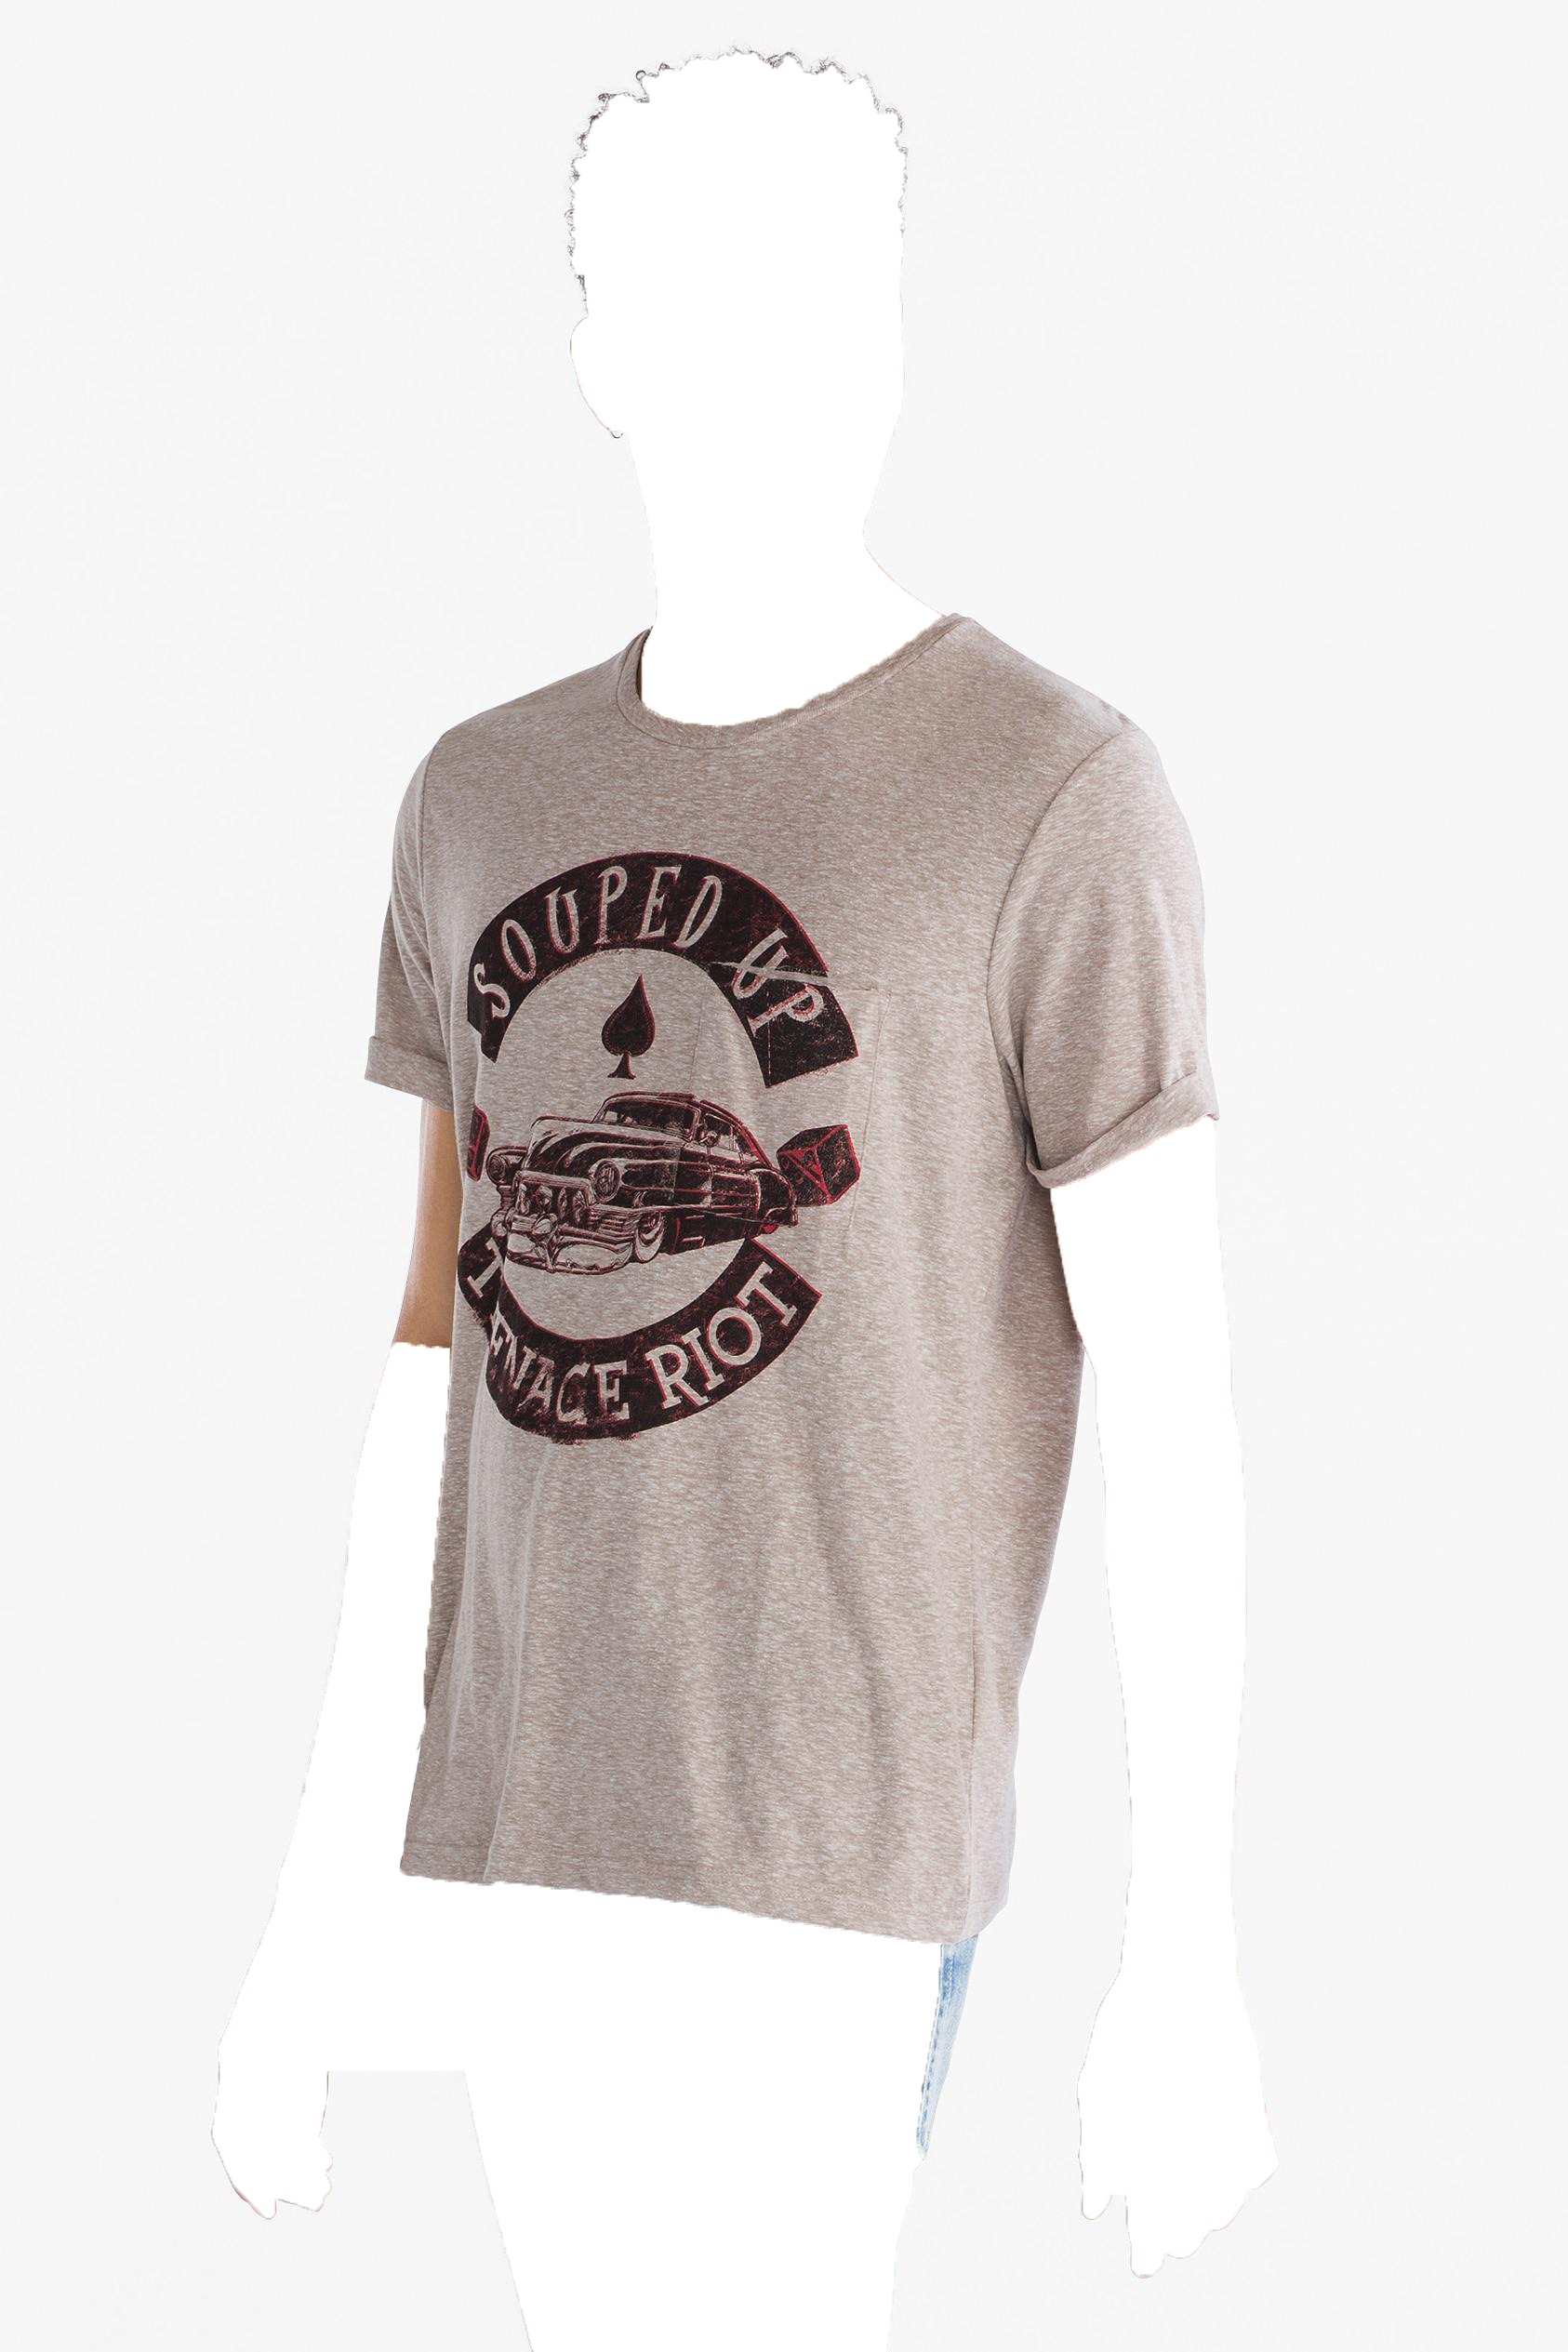teeshirt: (364, 604, 1225, 1995)
